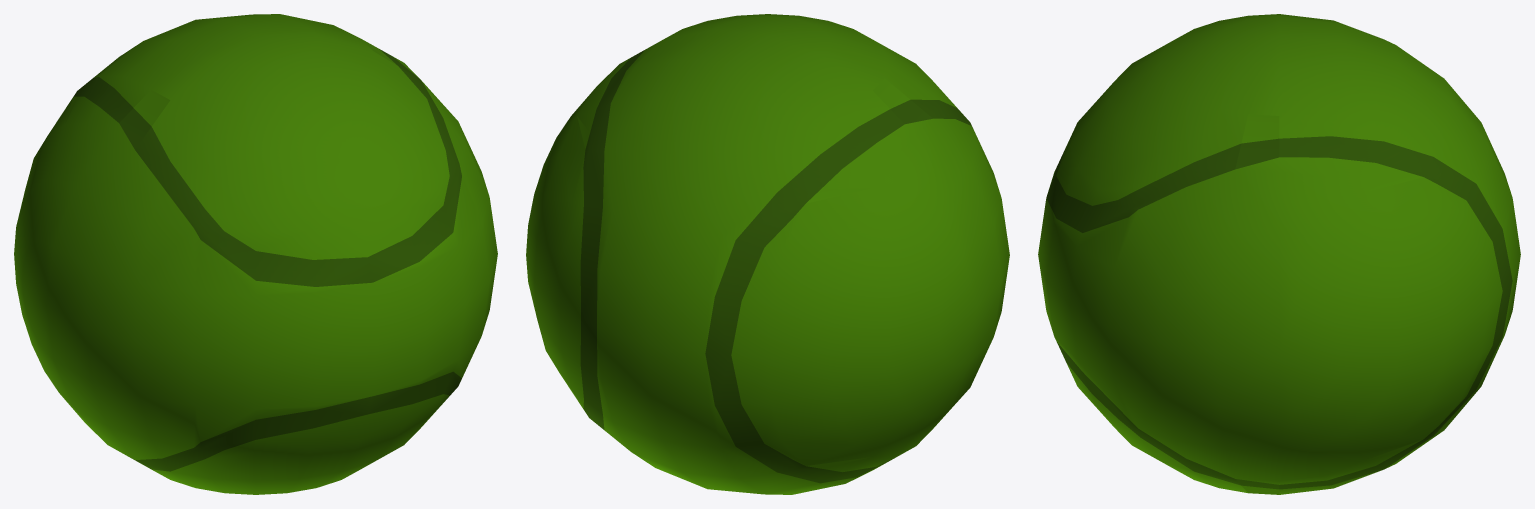
File: Baseball.FBX
3 views of the same model, side by side, from view 1: azimuth 30°, elevation 25°; view 2: azimuth 150°, elevation 25°; view 3: azimuth 270°, elevation 25° (orthographic).
Parts seen in each view (by area): view 1: Baseball; view 2: Baseball; view 3: Baseball.
Boxes of the visible parts, box(x1,y1,x2,y2) form: Baseball: box(14, 14, 497, 494); Baseball: box(526, 14, 1009, 494); Baseball: box(1038, 14, 1520, 494).
Size of the model in its own units: 30.11 by 30.11 by 30.11.
